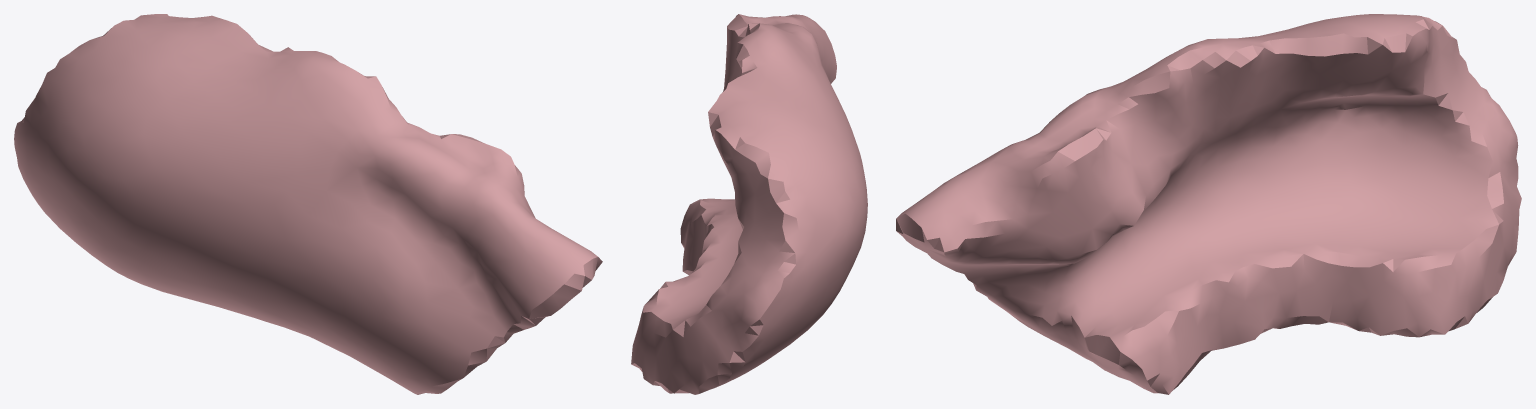
The model's file is fma83707-r_mm3067m.glb.
3 views of the same model, side by side, from view 1: azimuth 30°, elevation 25°; view 2: azimuth 150°, elevation 25°; view 3: azimuth 270°, elevation 25° (orthographic). The views are drawn at different scales.
Visible parts, largest first — view 1: FMA83707-R_MM3067M; view 2: FMA83707-R_MM3067M; view 3: FMA83707-R_MM3067M.
Boxes of the visible parts, box(x1,y1,x2,y2) form: FMA83707-R_MM3067M: box(14, 14, 602, 394); FMA83707-R_MM3067M: box(631, 14, 867, 394); FMA83707-R_MM3067M: box(896, 14, 1521, 394).
Bounding box in the file's own units: 0.018 × 0.0167 × 0.0309.
